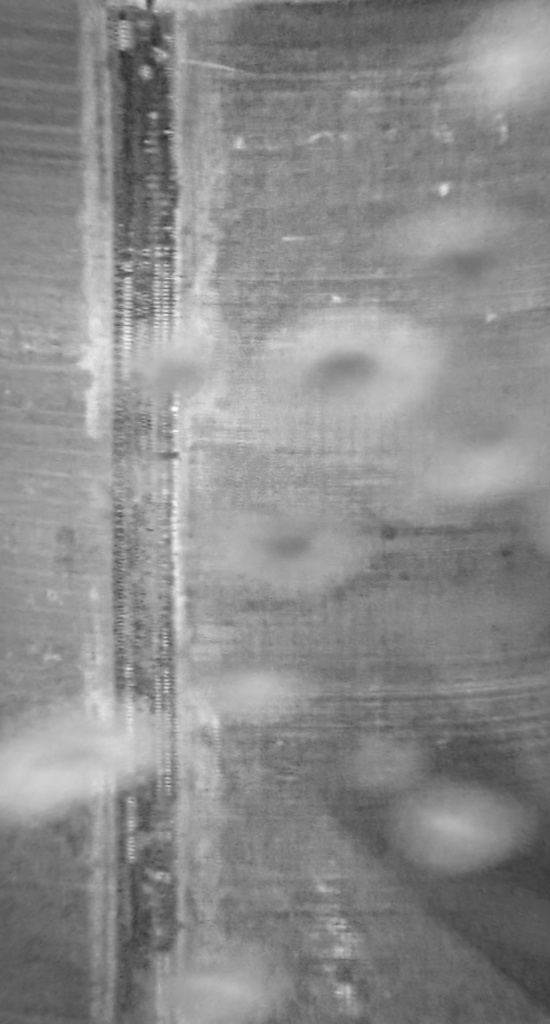splice: (86, 1, 189, 1024)
